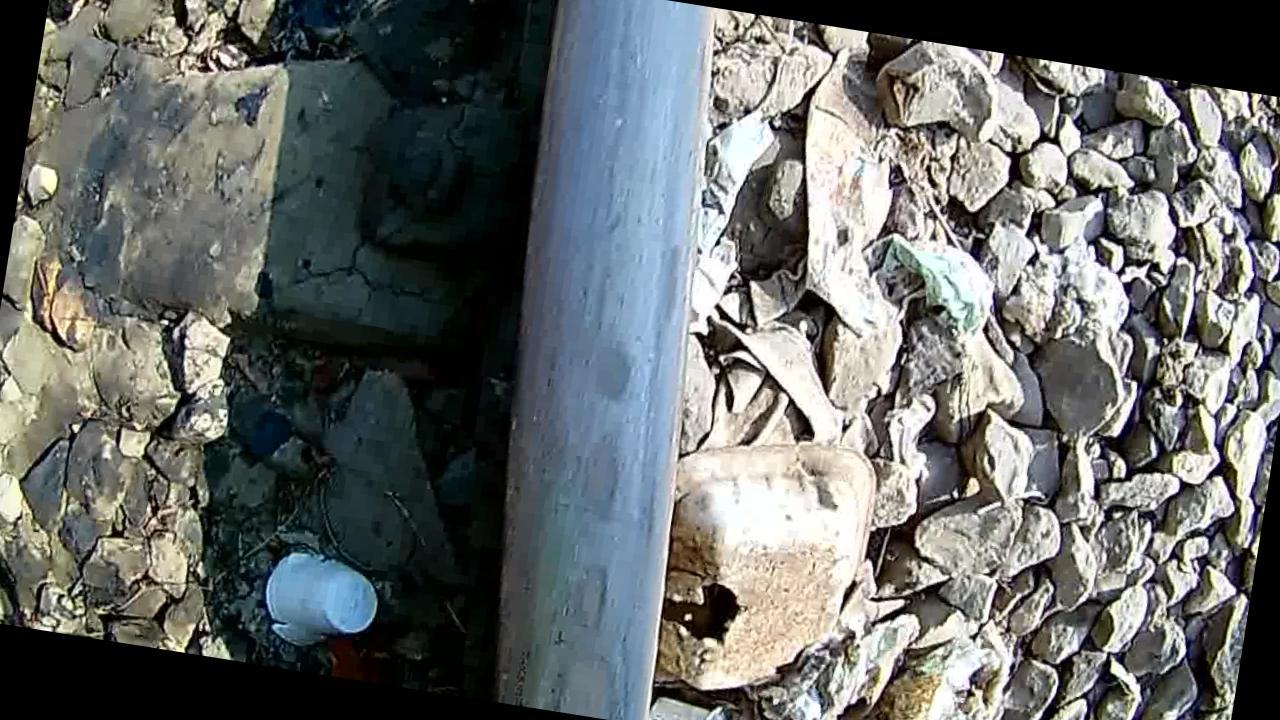bolt_missing: (438, 244, 714, 720)
